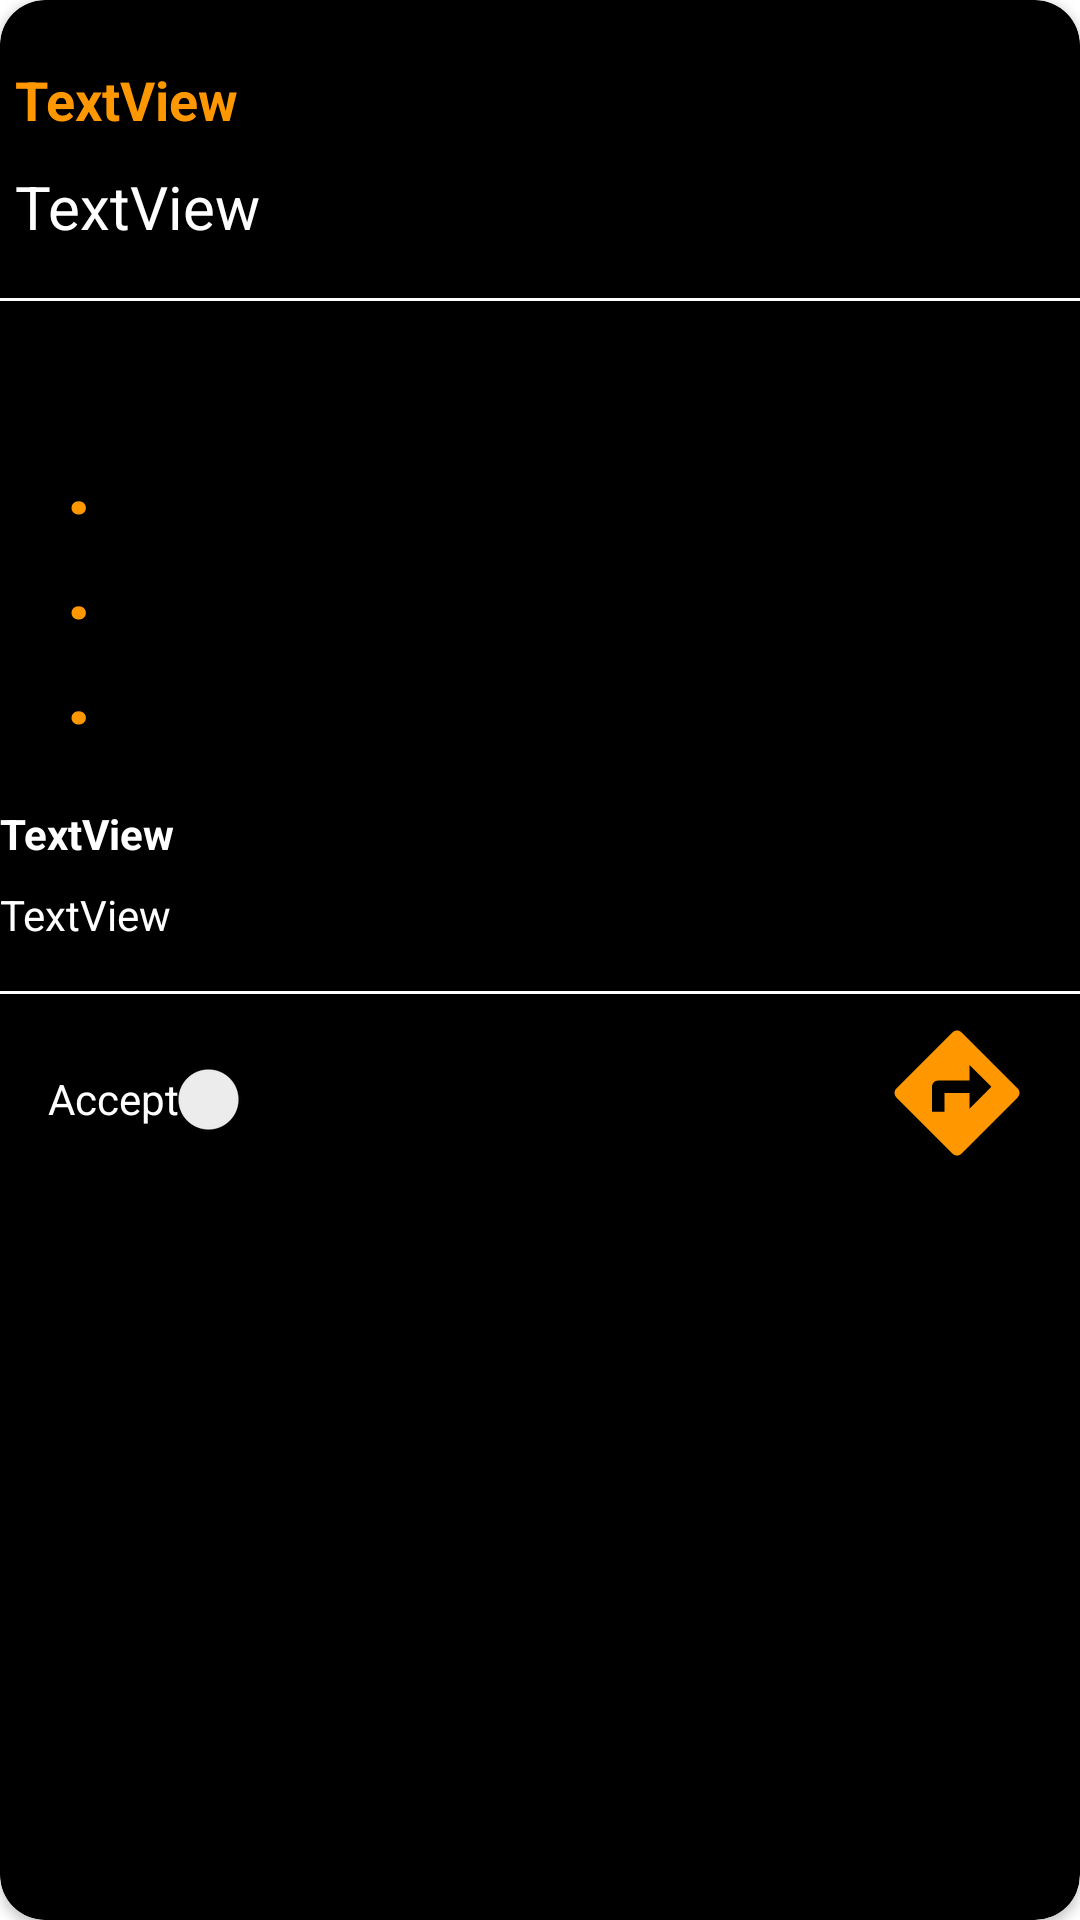

Named icons in this screenshot (1080px×1920px) and their centers, (x,y):
directions: (957,1093)
